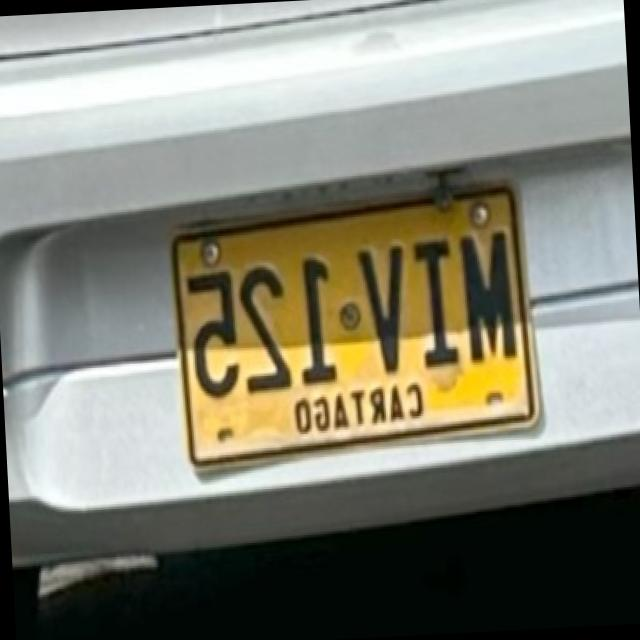number plate: (177, 187, 535, 459)
